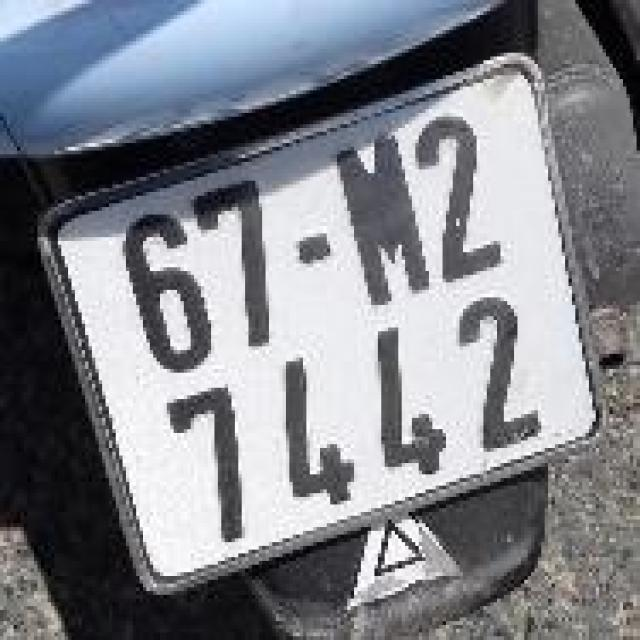2: (406, 102, 519, 298), (445, 285, 564, 464)
4: (351, 310, 461, 498), (260, 344, 370, 529)
6: (111, 203, 224, 387)
7: (180, 161, 302, 364), (153, 368, 271, 558)
M: (323, 120, 438, 314)
